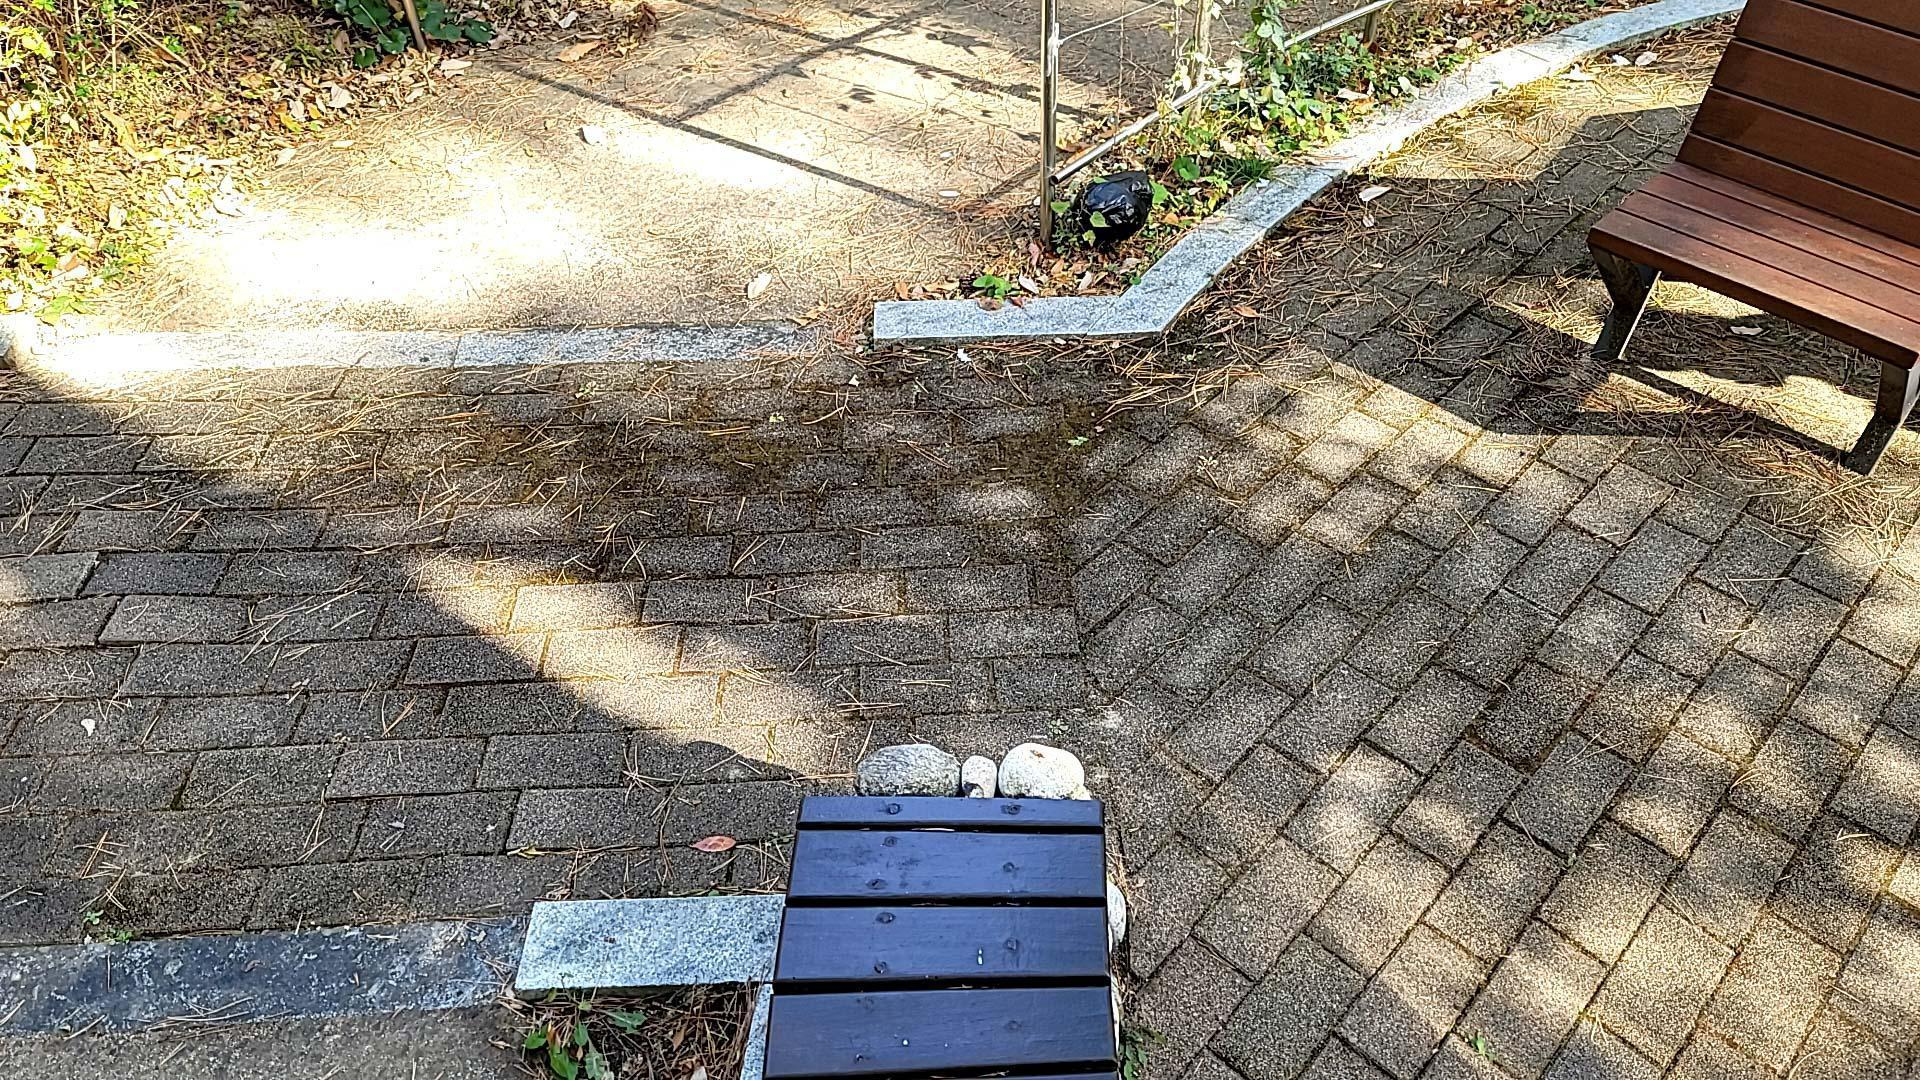black_bag: (1062, 158, 1154, 256)
